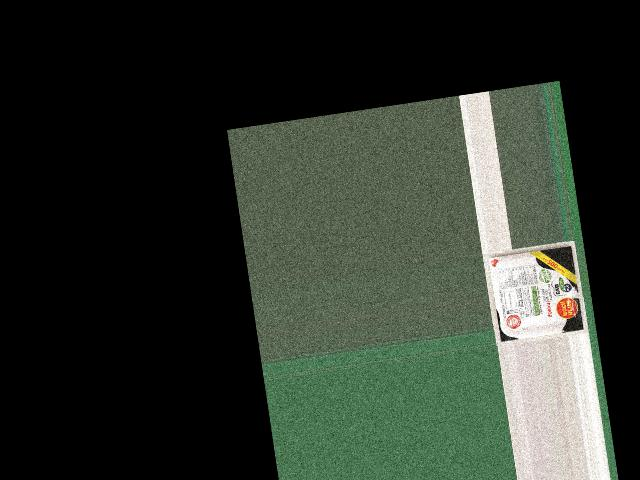cheese: (490, 241, 581, 342)
